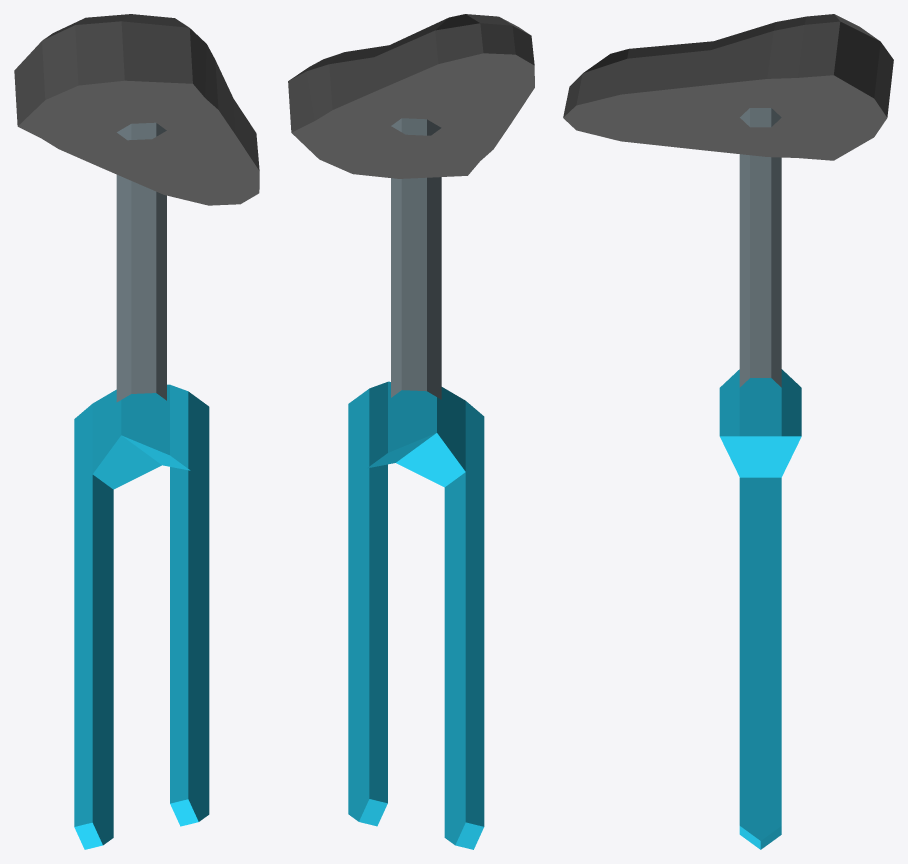
The model's file is unicycle_frame.glb.
3 views of the same model, side by side, from view 1: azimuth 30°, elevation 25°; view 2: azimuth 150°, elevation 25°; view 3: azimuth 270°, elevation 25° (orthographic).
Visible parts, largest first — view 1: Frame; view 2: Frame; view 3: Frame.
Part boxes in pixels (box(x1,y1,x2,y2)): Frame: box(14, 14, 259, 849); Frame: box(288, 14, 534, 849); Frame: box(563, 14, 893, 849).
Bounding box in the file's own units: 1.77 × 7.51 × 2.9.
